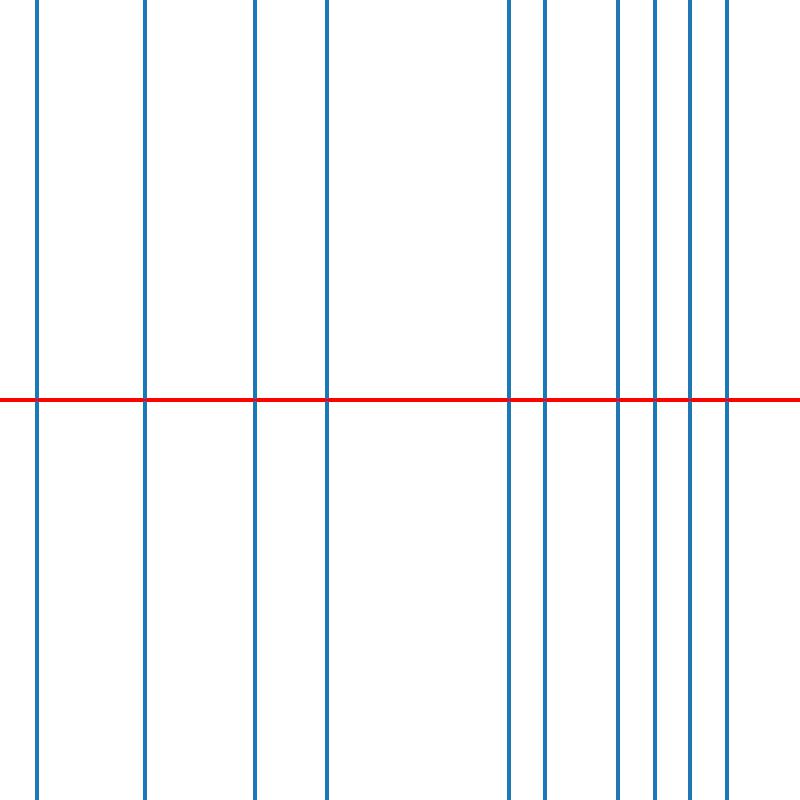root: (141, 396, 149, 404), (541, 396, 549, 404), (250, 396, 258, 404), (650, 396, 658, 404), (32, 396, 40, 404), (687, 396, 694, 404), (323, 396, 330, 404), (505, 396, 512, 404), (723, 396, 730, 404), (614, 396, 621, 404)
